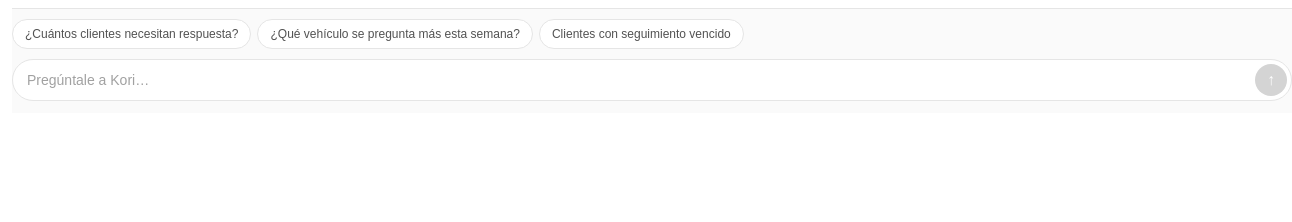
Scenario: KoriChatDock › sends the typed question and renders Kori's answer
In the field with placeholder "Pregúntale a Kori…": (637, 80) 27,70 -> 1247,90, type "¿Cuántos clientes necesitan respuesta?"
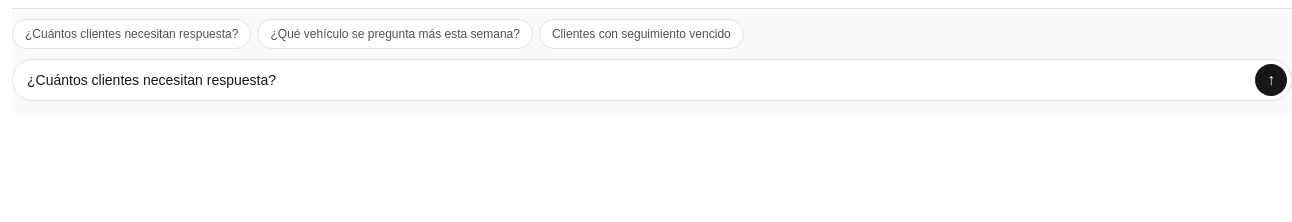
Click the button named "Enviar pregunta": (1271, 80) 1255,64 -> 1287,96
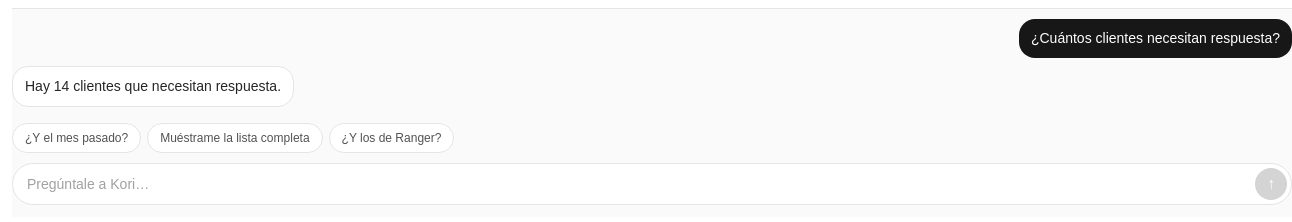
Expected: the text "¿Cuántos clientes necesitan respuesta?" is shown, 1019,19 -> 1291,58
Expected: the text "Hay 14 clientes que necesitan respuesta." is shown, 12,66 -> 294,107
